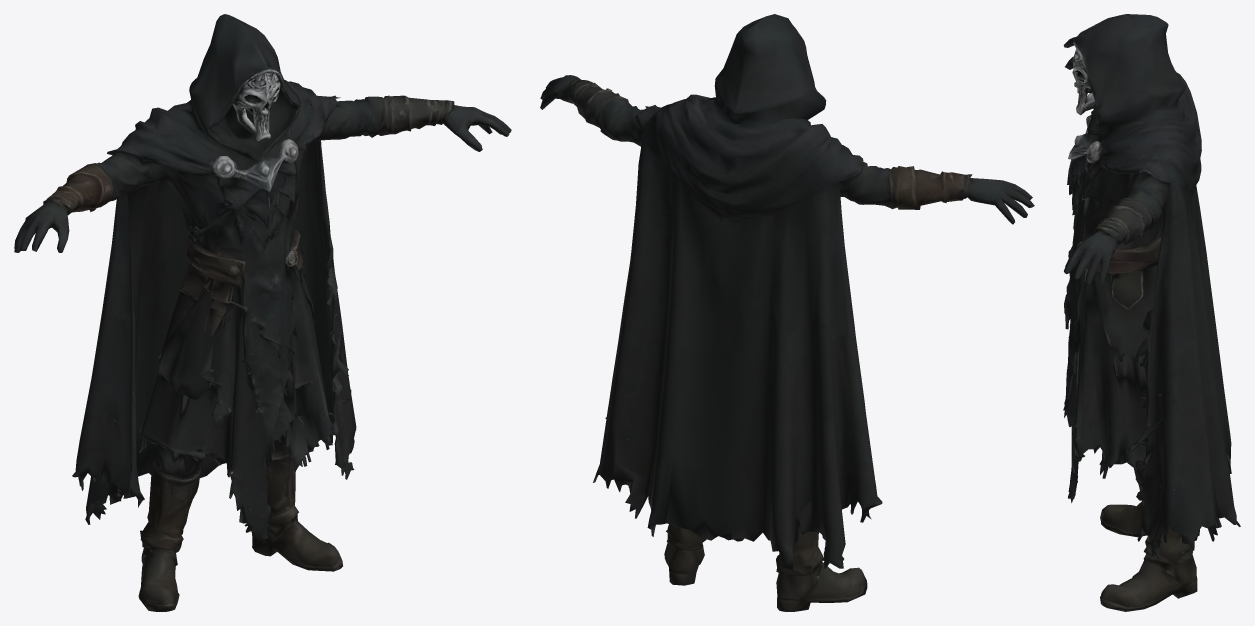
Rendered from dark_wizard.glb.
The picture shows the model from 3 angles, left to right: view 1: azimuth 30°, elevation 25°; view 2: azimuth 150°, elevation 25°; view 3: azimuth 270°, elevation 25°; orthographic projection.
Visible parts, largest first — view 1: tripo_node_20e96b0e-1938-447e-848d-ed5ed8d654be; view 2: tripo_node_20e96b0e-1938-447e-848d-ed5ed8d654be; view 3: tripo_node_20e96b0e-1938-447e-848d-ed5ed8d654be.
Boxes of the visible parts, box(x1,y1,x2,y2) form: tripo_node_20e96b0e-1938-447e-848d-ed5ed8d654be: box(14, 14, 511, 611); tripo_node_20e96b0e-1938-447e-848d-ed5ed8d654be: box(540, 14, 1034, 611); tripo_node_20e96b0e-1938-447e-848d-ed5ed8d654be: box(1063, 14, 1240, 611).
Size of the model in its own units: 0.8951 by 0.9784 by 0.2855.
Materials: 1 (1 with a texture image).
